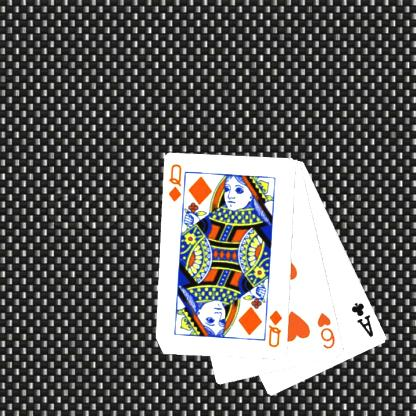6H: (315, 310, 337, 350)
AC: (349, 300, 375, 339)
QD: (266, 308, 284, 350), (166, 162, 184, 204)
